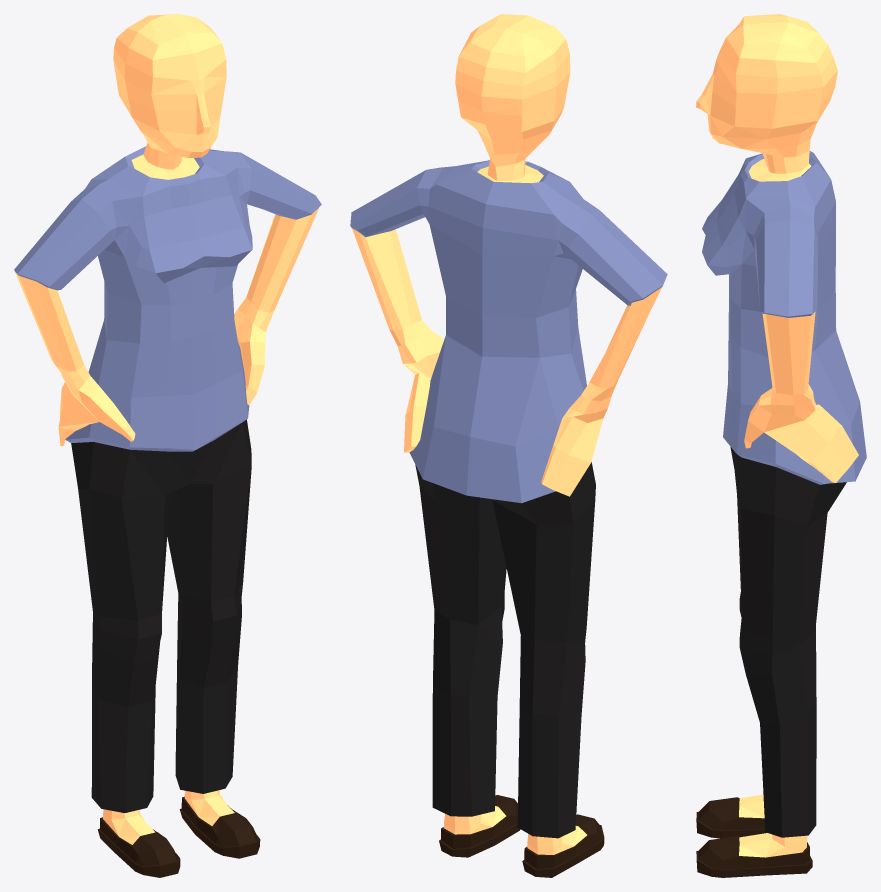
The model's file is female_standing_hips.glb.
The picture shows the model from 3 angles, left to right: view 1: azimuth 30°, elevation 25°; view 2: azimuth 150°, elevation 25°; view 3: azimuth 270°, elevation 25°; orthographic projection.
Parts seen in each view (by area): view 1: Female_Standing_Hips; view 2: Female_Standing_Hips; view 3: Female_Standing_Hips.
Part boxes in pixels (x1,y1,x2,y2): Female_Standing_Hips: [14, 14, 321, 877]; Female_Standing_Hips: [350, 14, 667, 877]; Female_Standing_Hips: [696, 14, 866, 877].
Bounding box in the file's own units: 0.7161 × 1.85 × 0.3464.
